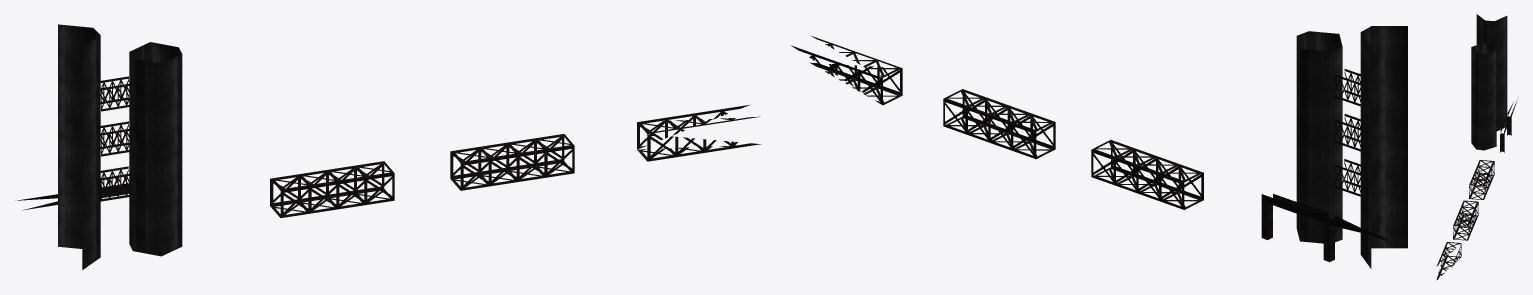
File: cell_16_-9.gltf
3 renders of one model, left to right at view 1: azimuth 30°, elevation 25°; view 2: azimuth 150°, elevation 25°; view 3: azimuth 270°, elevation 25°, orthographic. The views are drawn at different scales.
Visible parts, largest first — view 1: cell_16_-9; view 2: cell_16_-9; view 3: cell_16_-9.
Boxes of the visible parts, <box> form: cell_16_-9: <box>15,24,760,269</box>; cell_16_-9: <box>791,26,1407,268</box>; cell_16_-9: <box>1436,14,1517,280</box>.
Bounding box in the file's own units: 291 × 92.38 × 62.09.
3 materials, 3 textured.
